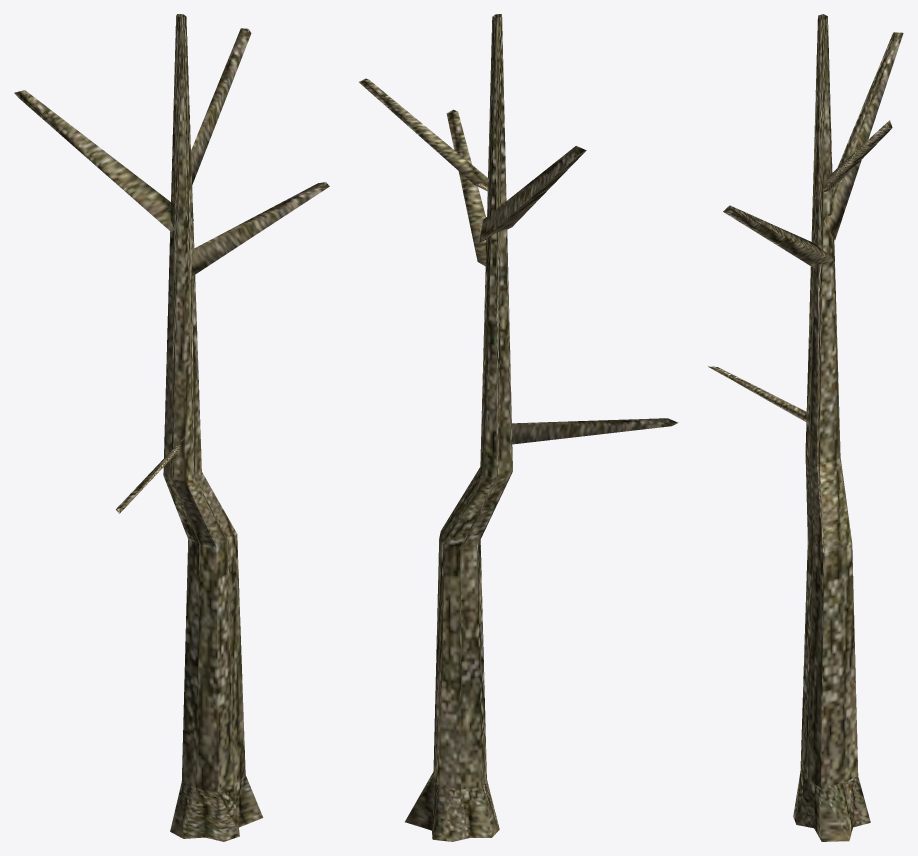
The model's file is tree_tropic_c.dae.
The picture shows the model from 3 angles, left to right: view 1: azimuth 30°, elevation 25°; view 2: azimuth 150°, elevation 25°; view 3: azimuth 270°, elevation 25°; orthographic projection. The views are drawn at different scales.
Visible parts, largest first — view 1: tree_oak_a; view 2: tree_oak_a; view 3: tree_oak_a.
Part boxes in pixels (x1,y1,x2,y2): tree_oak_a: (14,14,329,841); tree_oak_a: (359,14,678,841); tree_oak_a: (708,14,903,841).
Size of the model in its own units: 5.12 by 3.94 by 17.45.
